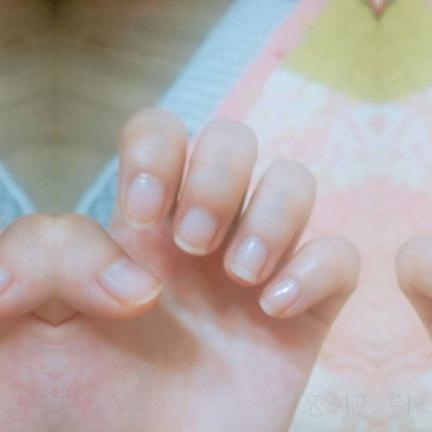Nail: (97, 256, 165, 308), (122, 172, 166, 230), (225, 234, 269, 283), (174, 207, 216, 254), (258, 281, 299, 318), (0, 261, 11, 292)
